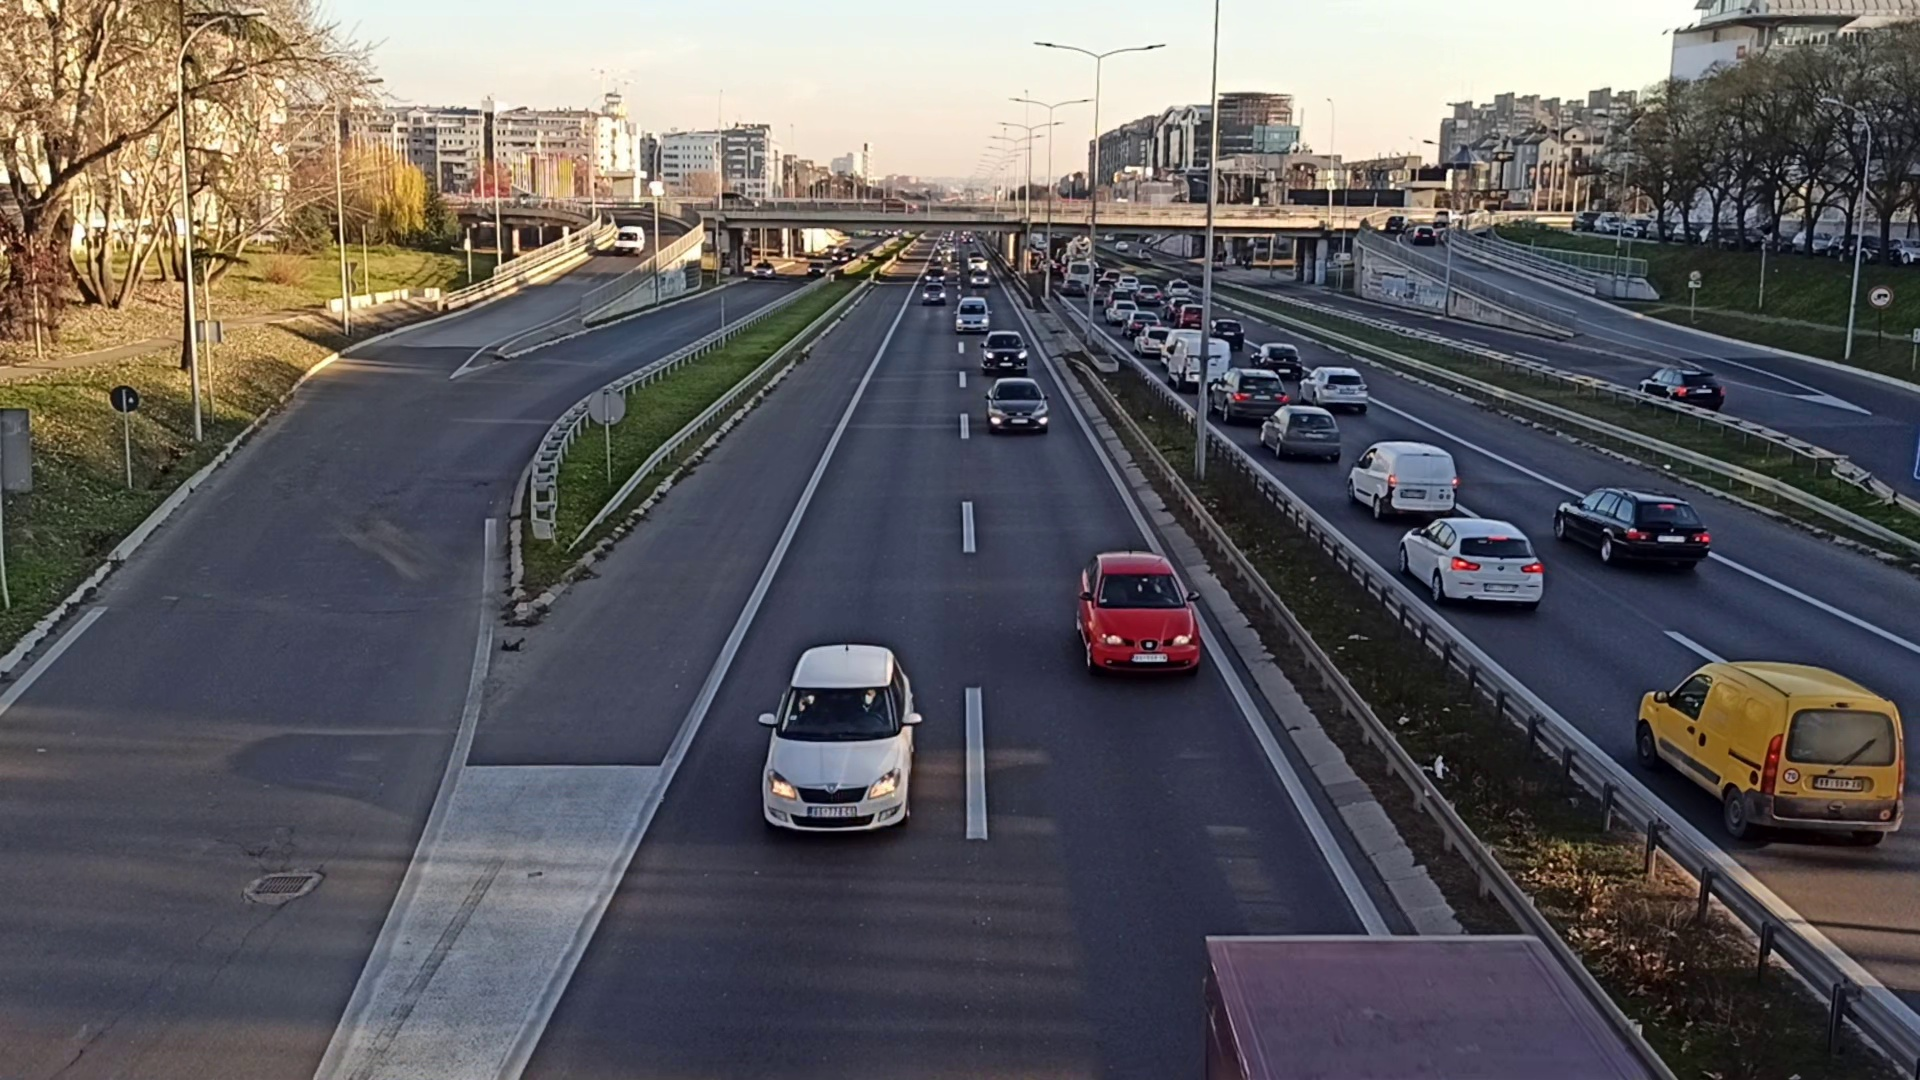car: (760, 644, 916, 844), (1077, 550, 1203, 671), (1555, 488, 1709, 575), (1398, 517, 1543, 609), (1261, 405, 1342, 463), (1640, 367, 1726, 414), (1211, 369, 1283, 419), (1299, 365, 1365, 414), (986, 378, 1046, 433), (984, 330, 1029, 372), (955, 301, 985, 332), (920, 284, 945, 306)
van: (1636, 654, 1907, 852), (1349, 440, 1458, 520)
